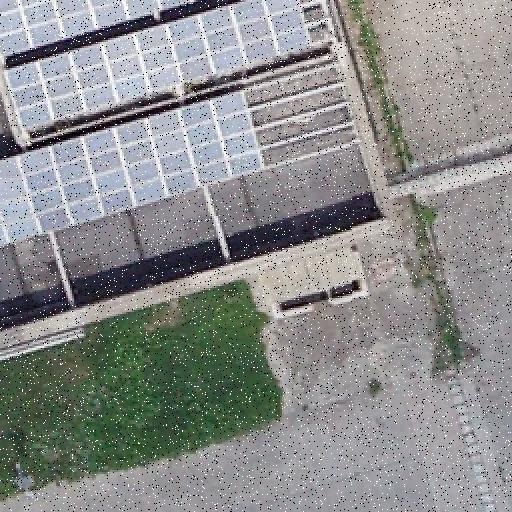solar-panel: (0, 89, 264, 247), (6, 0, 314, 132), (1, 0, 207, 58)
